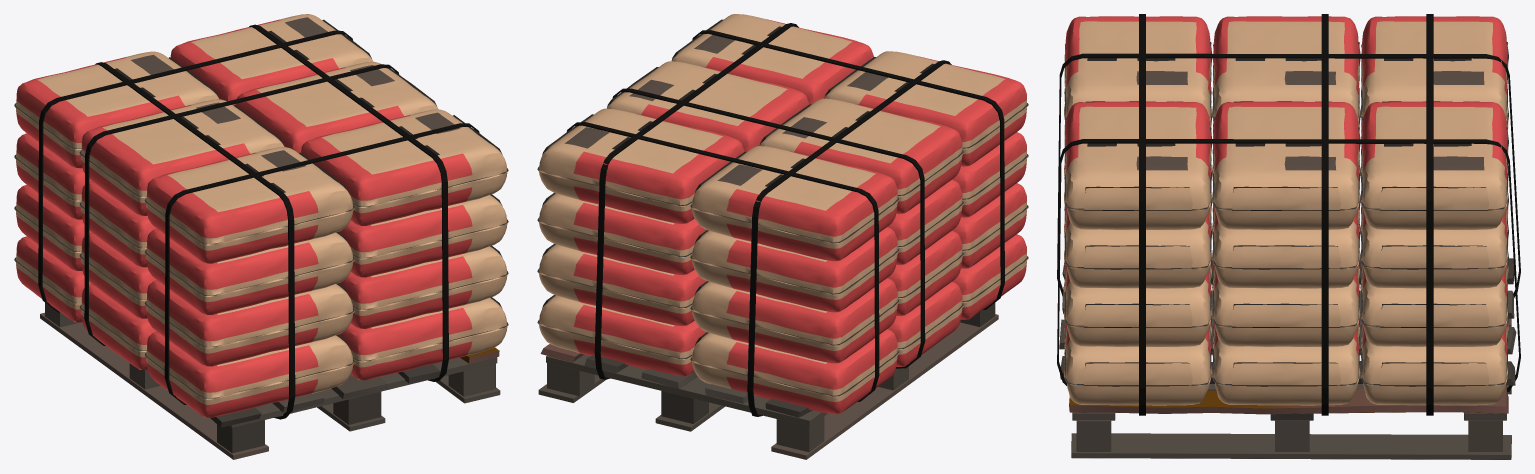
The model's file is SM_PalletteCementBags_A_D.fbx.
The picture shows the model from 3 angles, left to right: view 1: azimuth 30°, elevation 25°; view 2: azimuth 150°, elevation 25°; view 3: azimuth 270°, elevation 25°; orthographic projection. The views are drawn at different scales.
Parts seen in each view (by area): view 1: SM_PalletteCementBags_A_D; view 2: SM_PalletteCementBags_A_D; view 3: SM_PalletteCementBags_A_D.
Boxes of the visible parts, x1,y1,x2,y2 form: SM_PalletteCementBags_A_D: (14, 14, 508, 459); SM_PalletteCementBags_A_D: (537, 14, 1028, 459); SM_PalletteCementBags_A_D: (1057, 14, 1520, 459).
Bounding box in the file's own units: 115 × 87.93 × 130.
